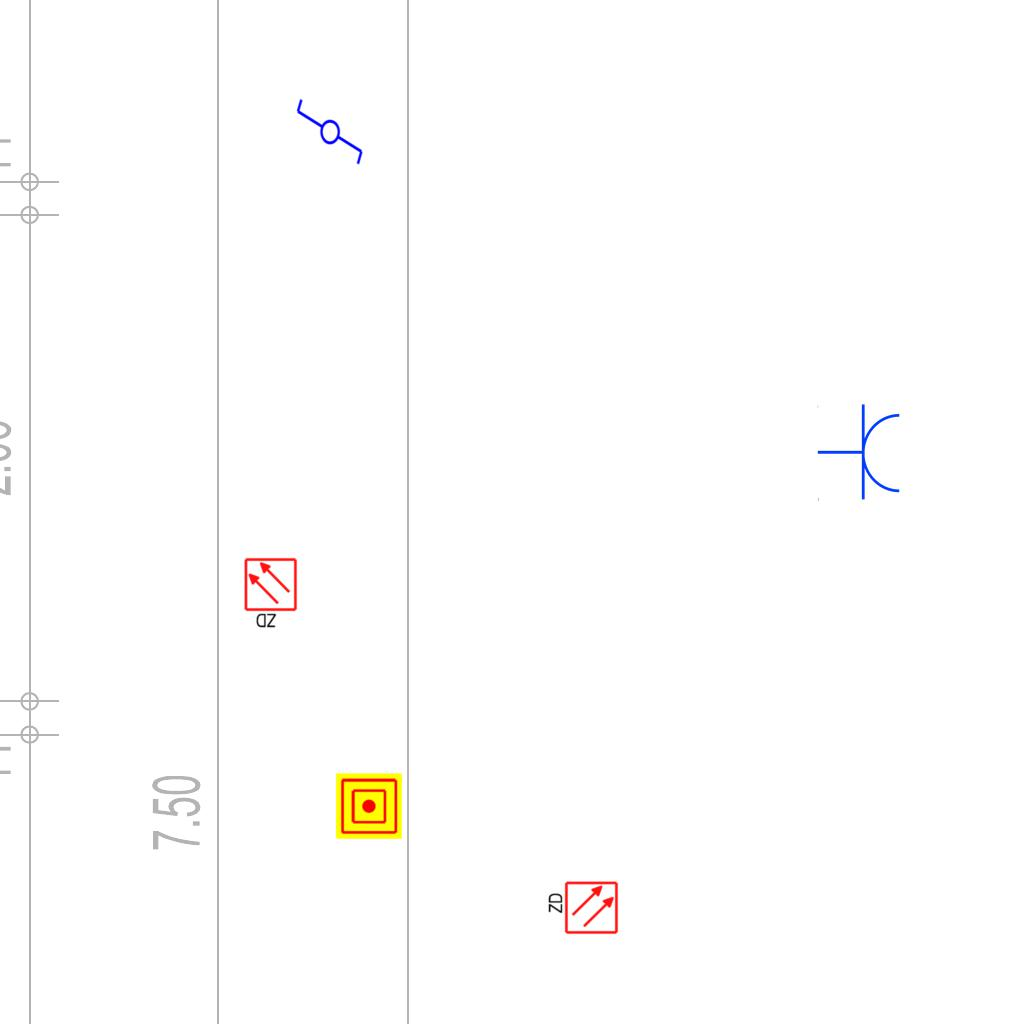NAM-Nichtautomatischer_Melder: (336, 773, 402, 839)
Schukosteckdose_einfach: (817, 403, 904, 503)
Wechselschalter: (293, 97, 365, 175)
ZD_Melder_in_Zwischendecke_mit_Revisionsoeffnung_mind_40_x_40_cm: (243, 557, 300, 631), (545, 880, 619, 937)
